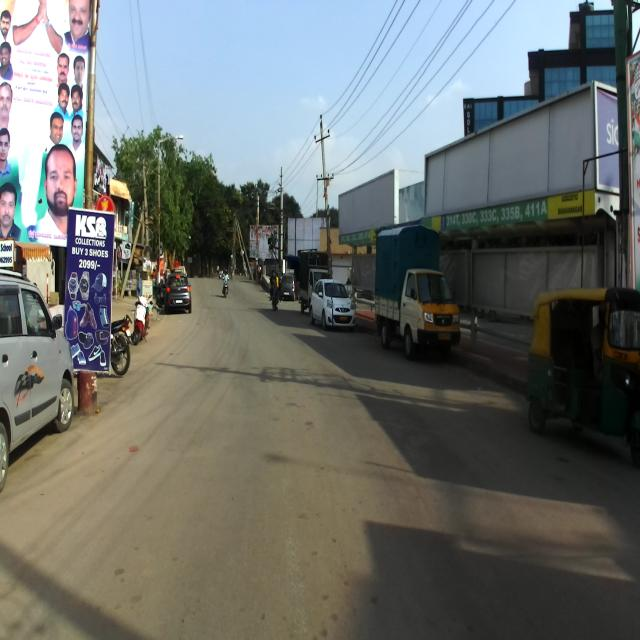auto ahead at: (522, 289, 640, 440)
car ahead at: (0, 270, 79, 479), (164, 267, 193, 315)
